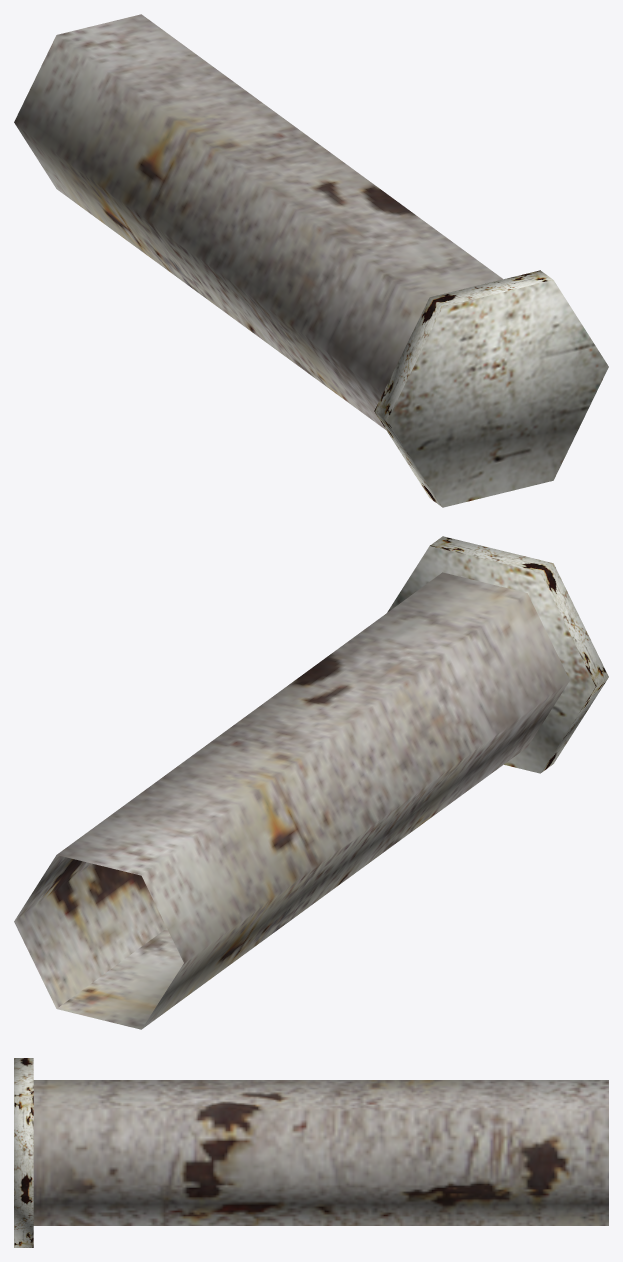
File: large_white_4.fbx
3 views of the same model, one above another, from view 1: azimuth 30°, elevation 25°; view 2: azimuth 150°, elevation 25°; view 3: azimuth 270°, elevation 25° (orthographic). The views are drawn at different scales.
Visible parts, largest first — view 1: polySurface650; view 2: polySurface650; view 3: polySurface650.
Boxes of the visible parts, bbox=[...] form: polySurface650: bbox=[14, 14, 608, 507]; polySurface650: bbox=[14, 536, 608, 1029]; polySurface650: bbox=[14, 1058, 608, 1247].
Size of the model in its own units: 1.3 by 1.13 by 4.07.
